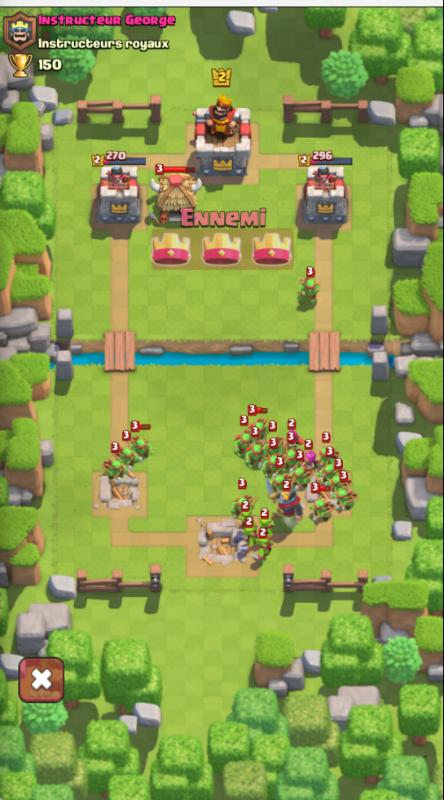archere: (301, 447, 318, 478), (285, 424, 302, 453)
chevalier: (265, 475, 306, 525)
gobelin: (254, 535, 274, 563), (260, 514, 279, 542), (241, 523, 256, 553), (239, 510, 252, 532)
gobelin_lances: (299, 266, 323, 302), (307, 497, 335, 527), (118, 444, 142, 473), (133, 434, 157, 461), (230, 495, 256, 519), (323, 460, 347, 486), (331, 471, 354, 498), (336, 490, 360, 513), (271, 470, 291, 496), (321, 443, 340, 469), (246, 444, 265, 470), (104, 461, 123, 486), (234, 433, 251, 457), (252, 417, 269, 441), (260, 456, 282, 474), (284, 449, 302, 471), (267, 435, 283, 459), (293, 468, 308, 491)
